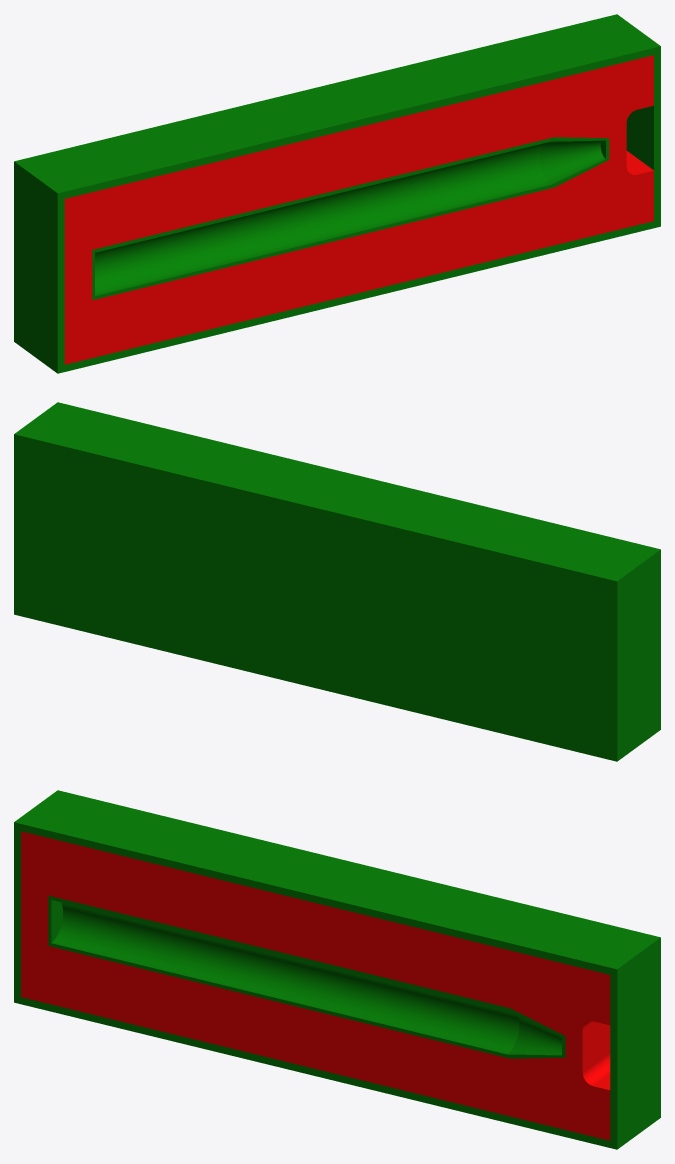
File: pen_cavity.obj
3 views of the same model, one above another, from view 1: azimuth 30°, elevation 25°; view 2: azimuth 150°, elevation 25°; view 3: azimuth 330°, elevation 25° (orthographic).
Bounding box in the file's own units: 175 × 50 × 22.
